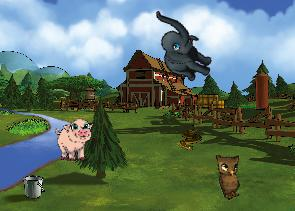elephant: (139, 10, 223, 85)
owl: (210, 148, 252, 201)
pig: (55, 119, 94, 162)
